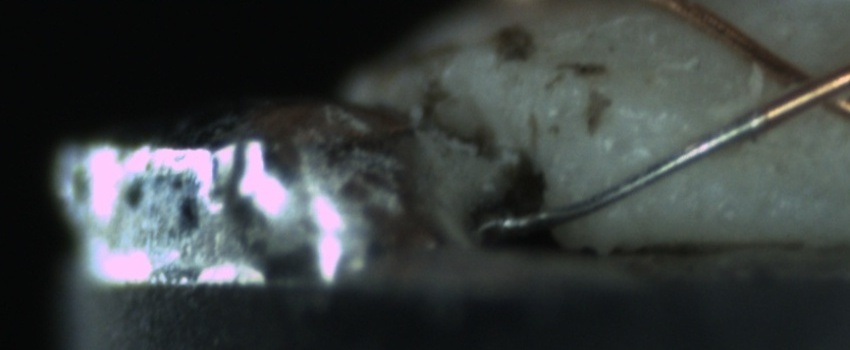CL: (754, 44, 850, 122)
TS: (495, 107, 770, 233)
